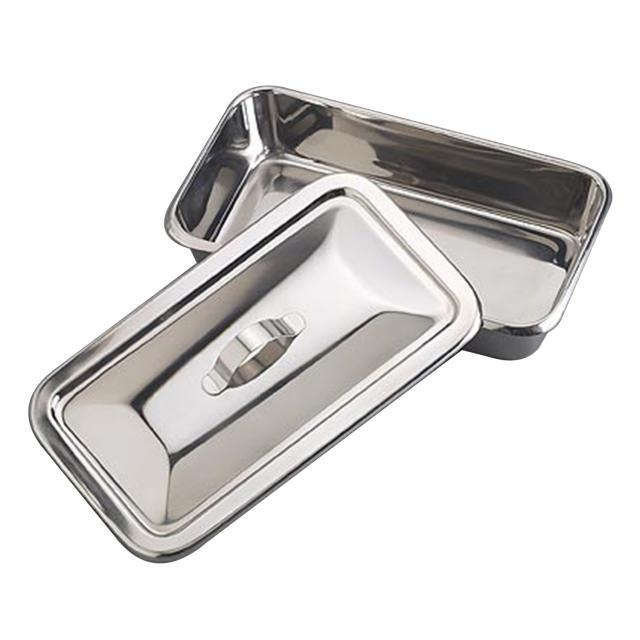Catheter Tray: (159, 57, 606, 366)
